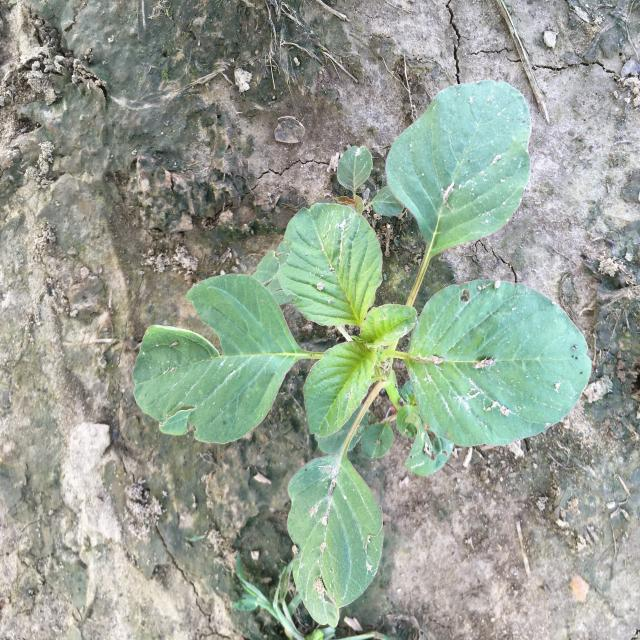PalmerAmaranth: (132, 80, 592, 628)
